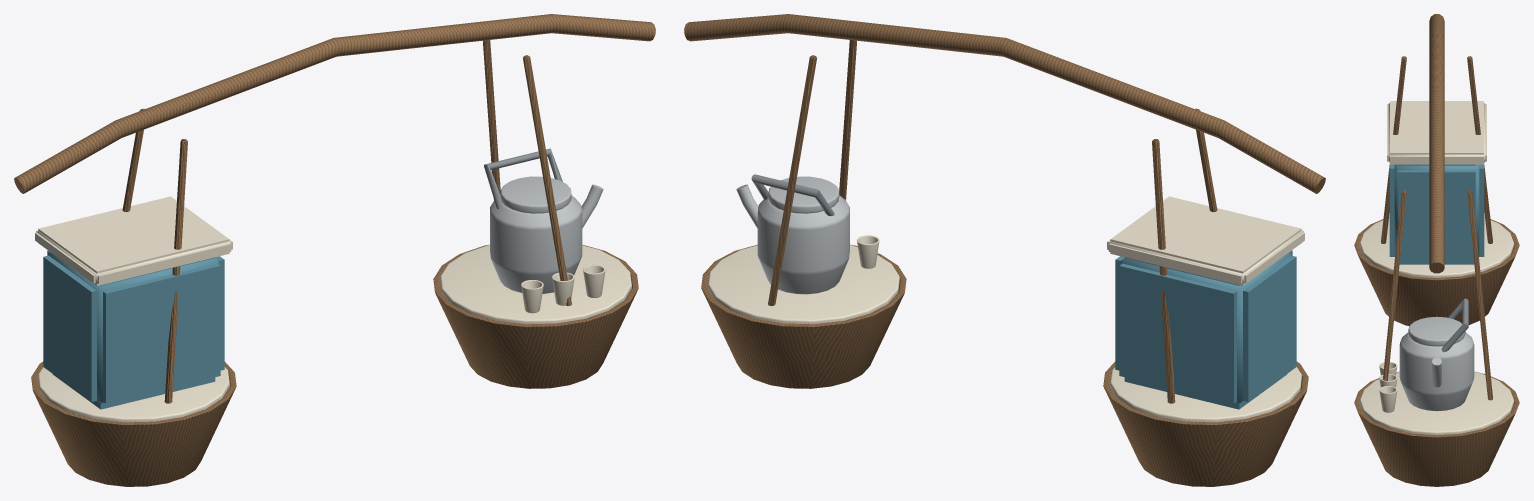
The model's file is TeaShoulderPole.glb.
3 renders of one model, left to right at view 1: azimuth 30°, elevation 25°; view 2: azimuth 150°, elevation 25°; view 3: azimuth 270°, elevation 25°, orthographic. The views are drawn at different scales.
Visible parts, largest first — view 1: ST_TeaShoulderPole_PBK_Indochine_wood.001, ST_TeaShoulderPole_ST_cream.001, ST_Carry_Ice_Cooler.001, ST_TeaShoulderPole_ST_steel.001, ST_Carry_Kettle_Handle.001; view 2: ST_TeaShoulderPole_PBK_Indochine_wood.001, ST_TeaShoulderPole_ST_cream.001, ST_Carry_Ice_Cooler.001, ST_TeaShoulderPole_ST_steel.001, ST_Carry_Kettle_Handle.001; view 3: ST_TeaShoulderPole_PBK_Indochine_wood.001, ST_TeaShoulderPole_ST_cream.001, ST_Carry_Ice_Cooler.001, ST_TeaShoulderPole_ST_steel.001, ST_Carry_Kettle_Handle.001.
Part boxes in pixels (x1,y1,x2,y2): ST_TeaShoulderPole_PBK_Indochine_wood.001: (14,14,655,486); ST_TeaShoulderPole_ST_cream.001: (35,196,631,422); ST_Carry_Ice_Cooler.001: (43,250,224,409); ST_TeaShoulderPole_ST_steel.001: (490,176,603,293); ST_Carry_Kettle_Handle.001: (484,148,562,208); ST_TeaShoulderPole_PBK_Indochine_wood.001: (684,14,1325,486); ST_TeaShoulderPole_ST_cream.001: (708,196,1304,422); ST_Carry_Ice_Cooler.001: (1115,250,1296,409); ST_TeaShoulderPole_ST_steel.001: (736,176,849,294); ST_Carry_Kettle_Handle.001: (751,174,834,216); ST_TeaShoulderPole_PBK_Indochine_wood.001: (1354,14,1519,486); ST_TeaShoulderPole_ST_cream.001: (1359,101,1514,435); ST_Carry_Ice_Cooler.001: (1389,163,1484,264); ST_TeaShoulderPole_ST_steel.001: (1399,316,1474,411); ST_Carry_Kettle_Handle.001: (1441,298,1468,351).
Size of the model in its own units: 2.06 by 1.15 by 0.5783.
Materials: 5 (1 with a texture image).
